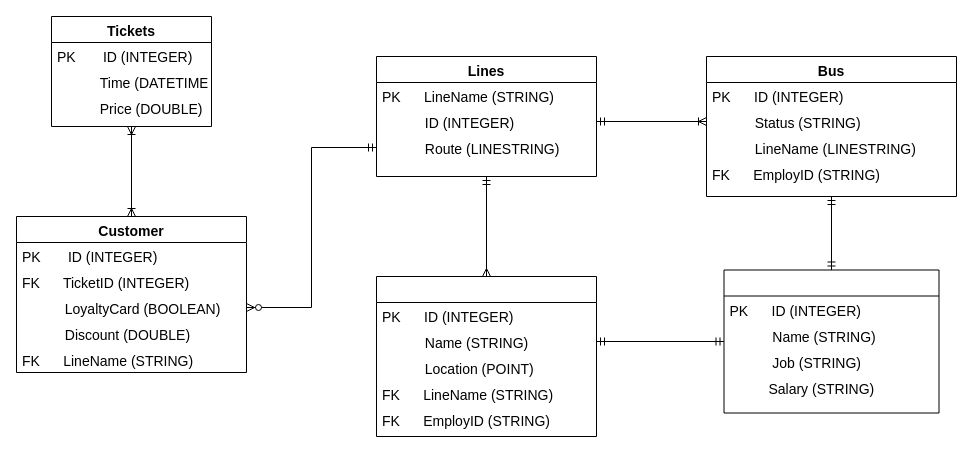
Image size: 973x453. Some labels were removed from this diagram. Each missing label, with the box of its shape:
Employes: (723, 269, 939, 413)
Stops: (376, 276, 596, 436)
